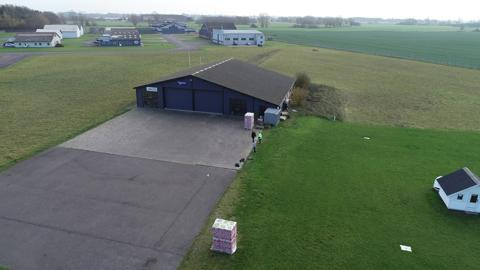RockwoolPallet: (244, 110, 255, 131)
